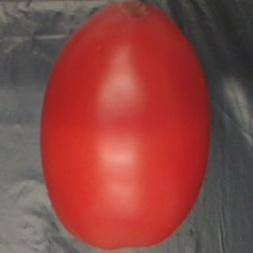unripe: (35, 1, 216, 253)
